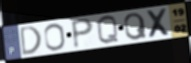D: (19, 24, 43, 57)
O: (43, 22, 67, 52)
P: (70, 17, 96, 50)
Q: (123, 12, 149, 42), (96, 15, 121, 46)
X: (144, 7, 173, 40)
